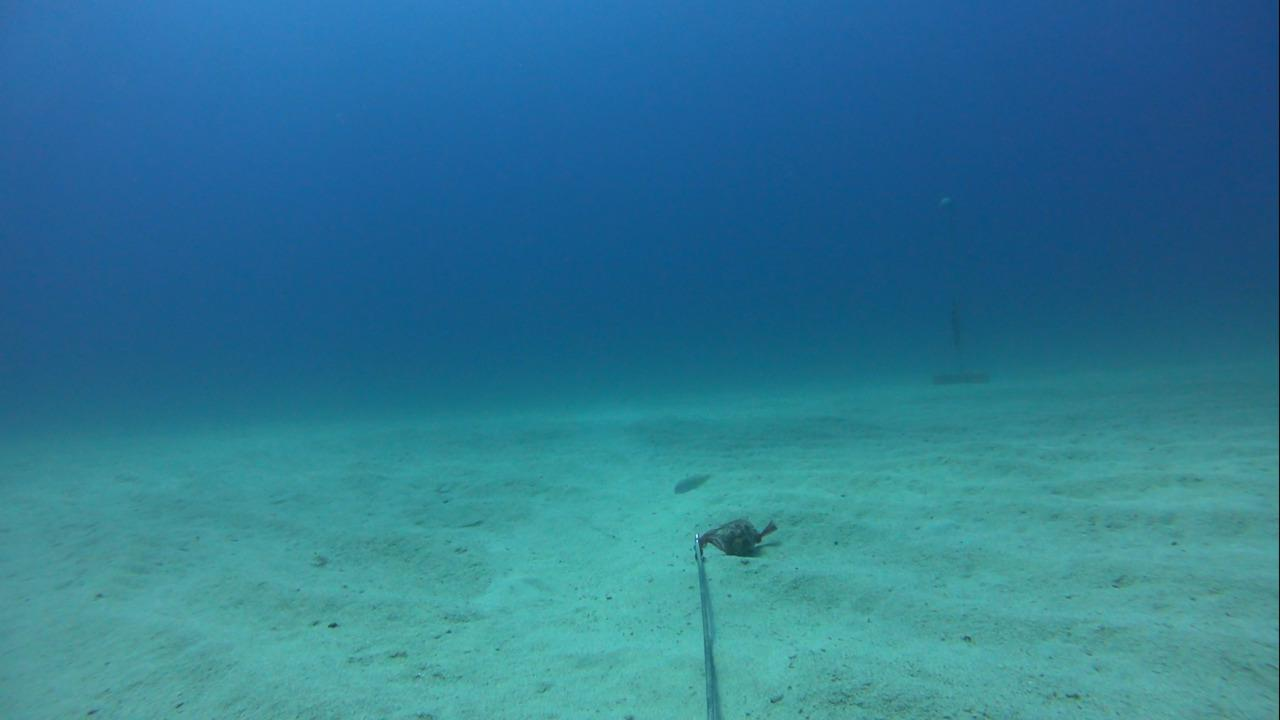raor: (663, 464, 719, 501)
